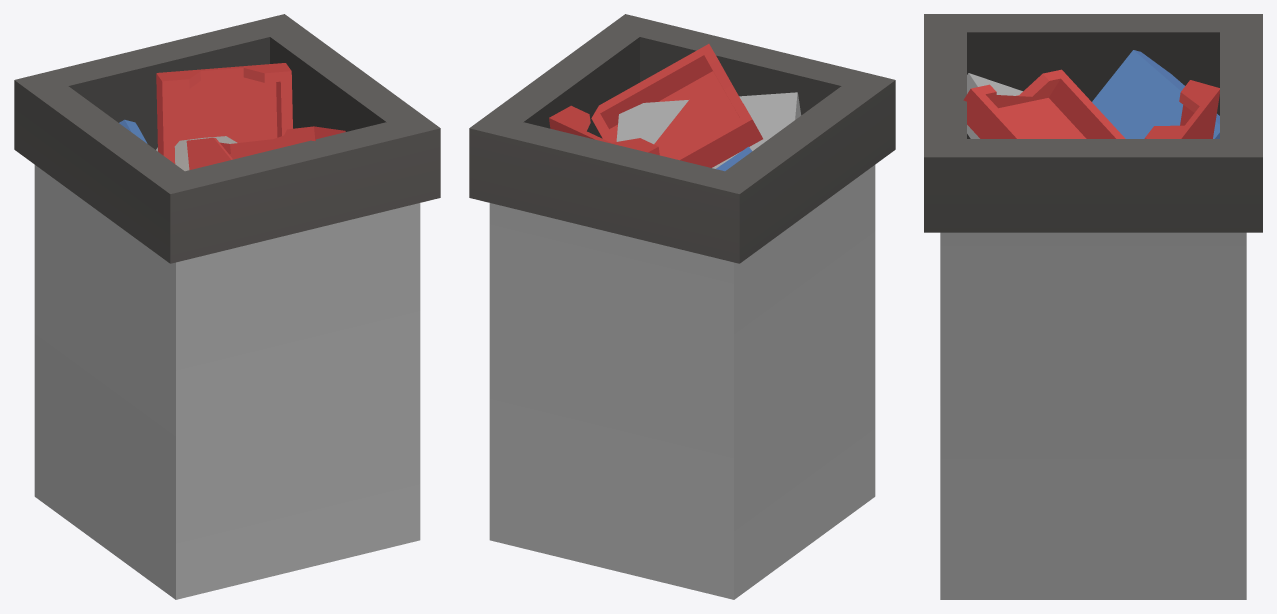
Rendered from TrashBin2.glb.
3 views of the same model, side by side, from view 1: azimuth 30°, elevation 25°; view 2: azimuth 150°, elevation 25°; view 3: azimuth 270°, elevation 25° (orthographic). The views are drawn at different scales.
Visible parts, largest first — view 1: SI_Prop_RubbishBin_02; view 2: SI_Prop_RubbishBin_02; view 3: SI_Prop_RubbishBin_02.
Part boxes in pixels (x1,y1,x2,y2): SI_Prop_RubbishBin_02: (14,14,440,599); SI_Prop_RubbishBin_02: (469,14,895,599); SI_Prop_RubbishBin_02: (924,14,1262,599).
Size of the model in its own units: 0.00835 by 0.0126 by 0.00835.
1 material, 1 textured.
